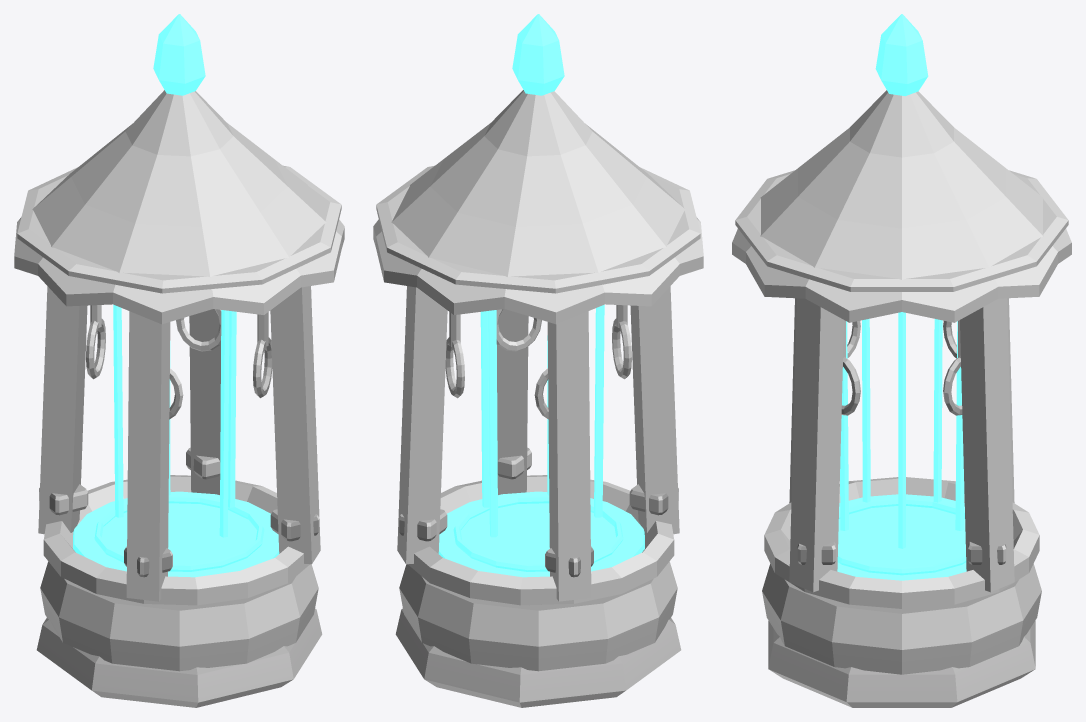
Rendered from rain.glb.
The picture shows the model from 3 angles, left to right: view 1: azimuth 30°, elevation 25°; view 2: azimuth 150°, elevation 25°; view 3: azimuth 270°, elevation 25°; orthographic projection.
Parts seen in each view (by area): view 1: rain.001; view 2: rain.001; view 3: rain.001.
Boxes of the visible parts, bbox=[...] form: rain.001: bbox=[14, 14, 344, 707]; rain.001: bbox=[373, 14, 703, 707]; rain.001: bbox=[732, 14, 1071, 707].
Size of the model in its own units: 1.36 by 2.94 by 1.41.
